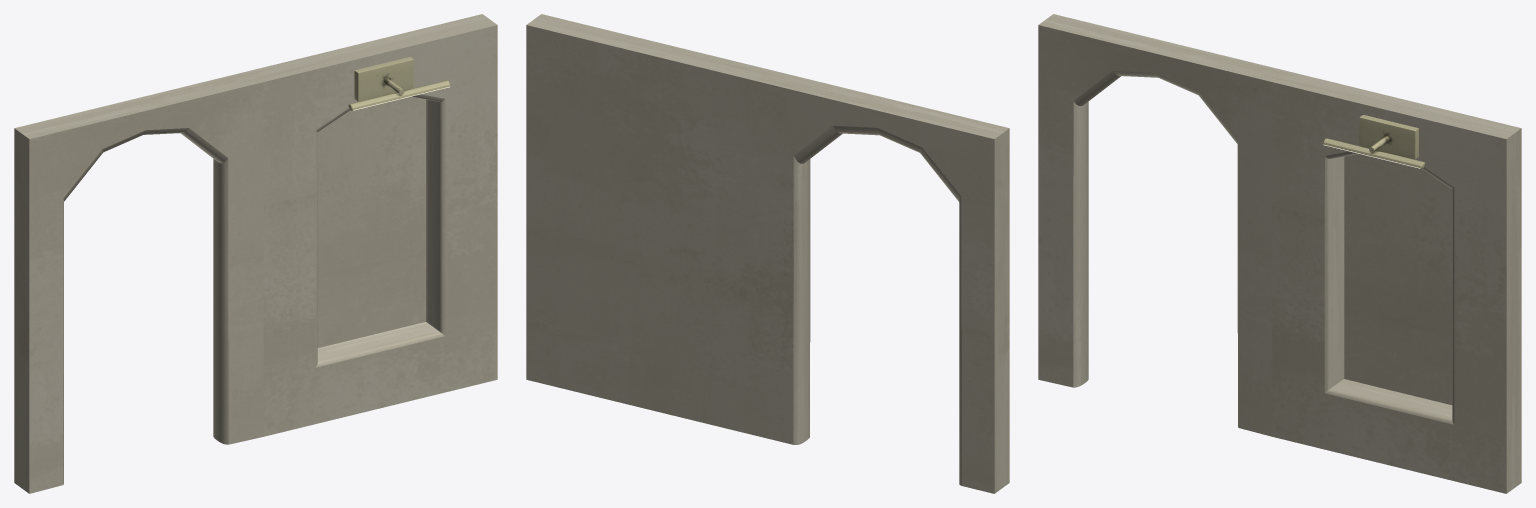
File: painting_display_doorway.fbx
3 views of the same model, side by side, from view 1: azimuth 30°, elevation 25°; view 2: azimuth 150°, elevation 25°; view 3: azimuth 330°, elevation 25° (orthographic).
Parts seen in each view (by area): view 1: wall-display.001, spotlight.009; view 2: wall-display.001; view 3: wall-display.001, spotlight.009.
Boxes of the visible parts, x1=… form: wall-display.001: x1=14, y1=14, x2=497, y2=493; spotlight.009: x1=348, y1=57, x2=450, y2=110; wall-display.001: x1=526, y1=14, x2=1009, y2=493; wall-display.001: x1=1038, y1=14, x2=1521, y2=493; spotlight.009: x1=1323, y1=115, x2=1424, y2=168.
Bounding box in the file's own units: 276 × 200 × 35.24.
2 materials, 2 textured.
